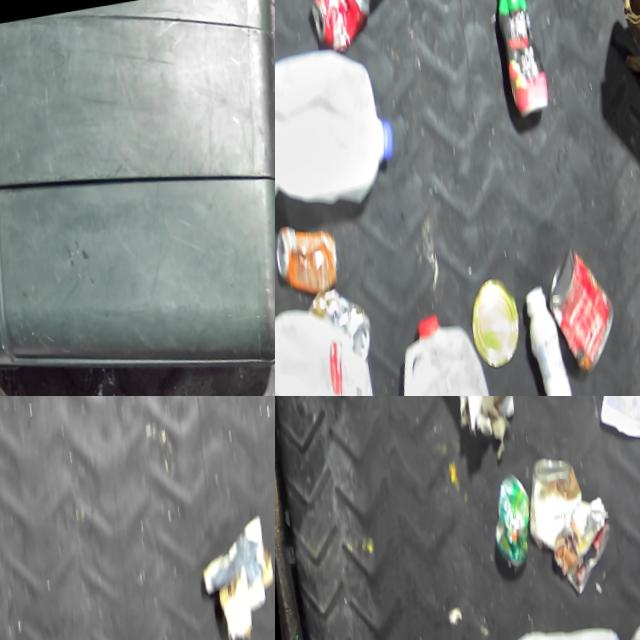can: (542, 240, 630, 383), (519, 446, 593, 560), (275, 217, 347, 301), (487, 469, 544, 575), (468, 276, 529, 373), (309, 287, 379, 371), (302, 0, 379, 59)
milk_jug: (275, 39, 406, 224), (275, 296, 393, 396), (387, 305, 515, 396)
